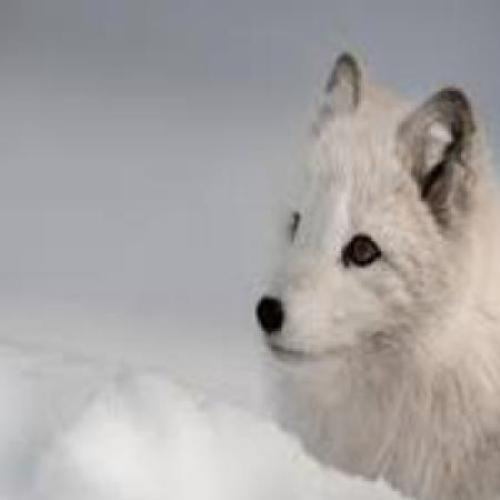arctic_fox-endangered: (254, 45, 500, 500)
